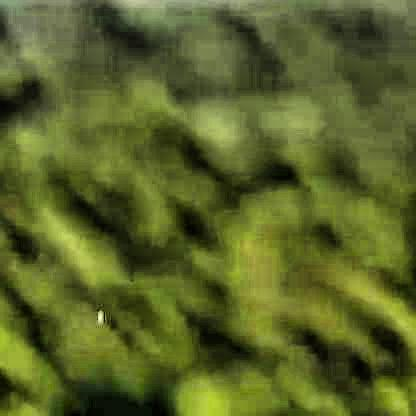golfball: (95, 305, 102, 318)
